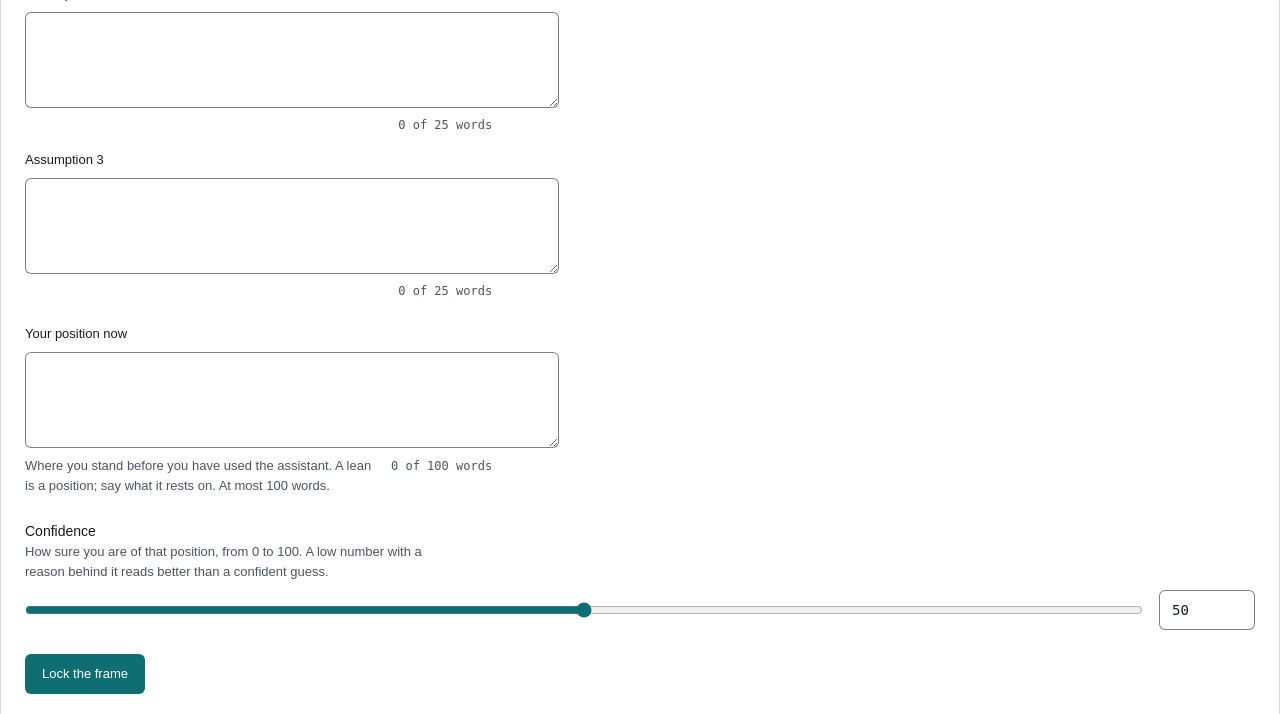
Test case: FrameForm (UI-023, FR-040) › names every empty field rather than locking an unfinished frame
(page scrolled)
Click the button "Lock the frame" at (85, 674), box [25,654,145,694]
(page scrolled)
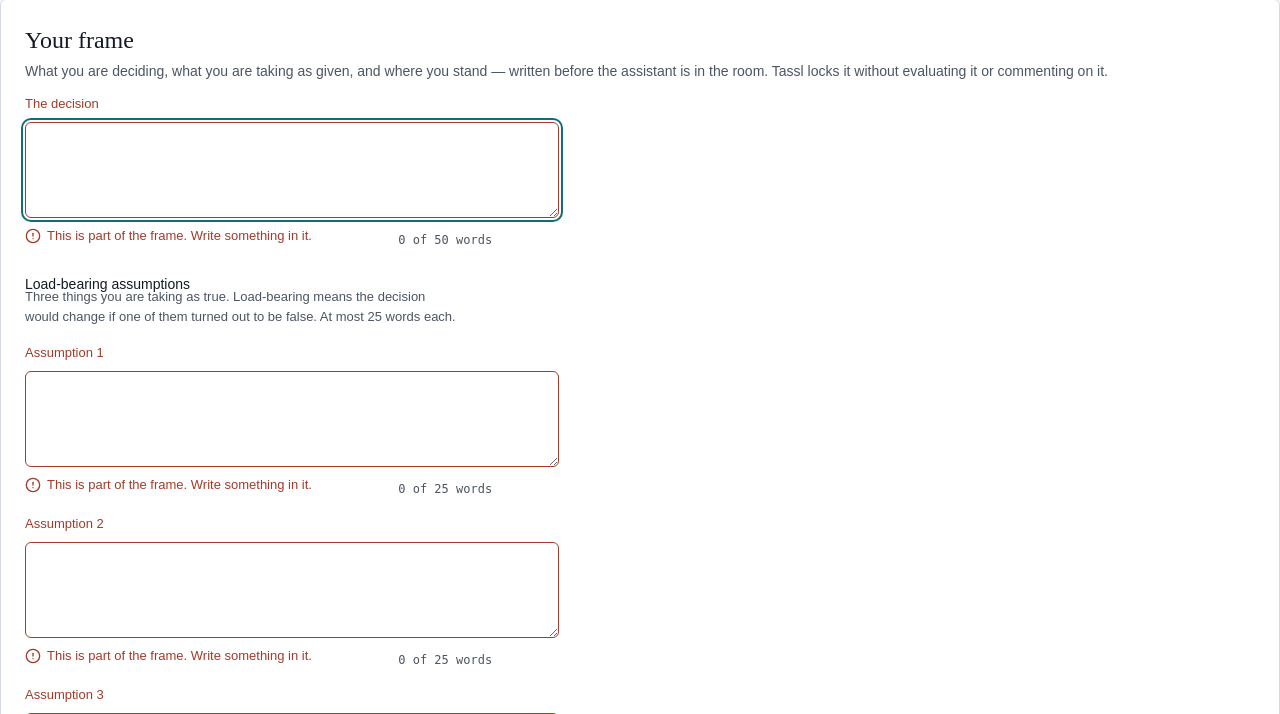
Check: the text "This is part of the frame. Write something in it." is shown 5 times
